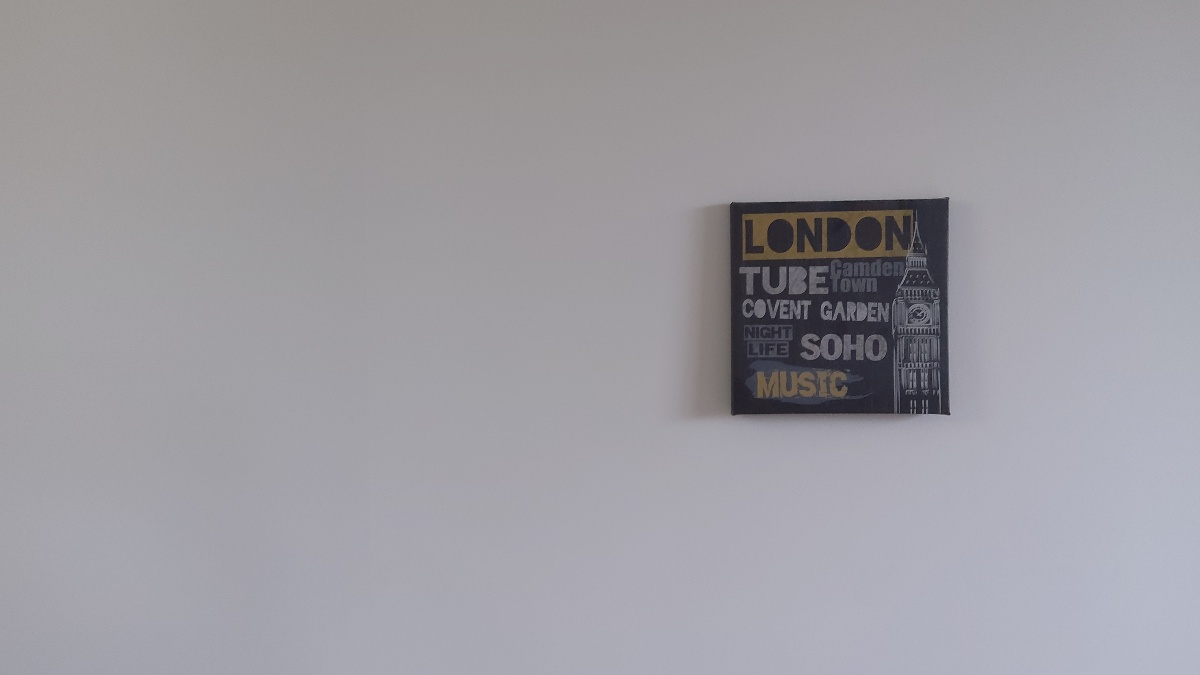poster: (720, 197, 960, 425)
